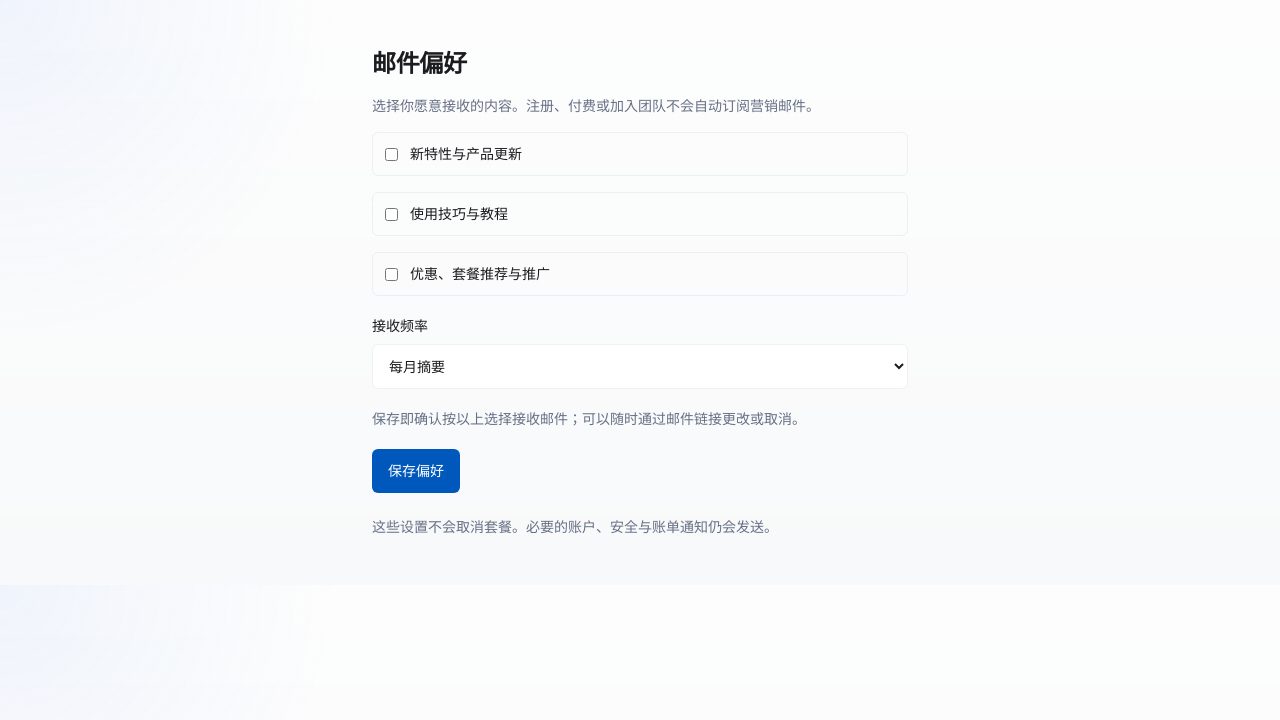
Test case: self-service email preferences › starts with unchecked categories and saves only explicit choices
Click the checkbox labelled "新特性与产品更新".
click(392, 154)  # box [385, 148, 398, 160]
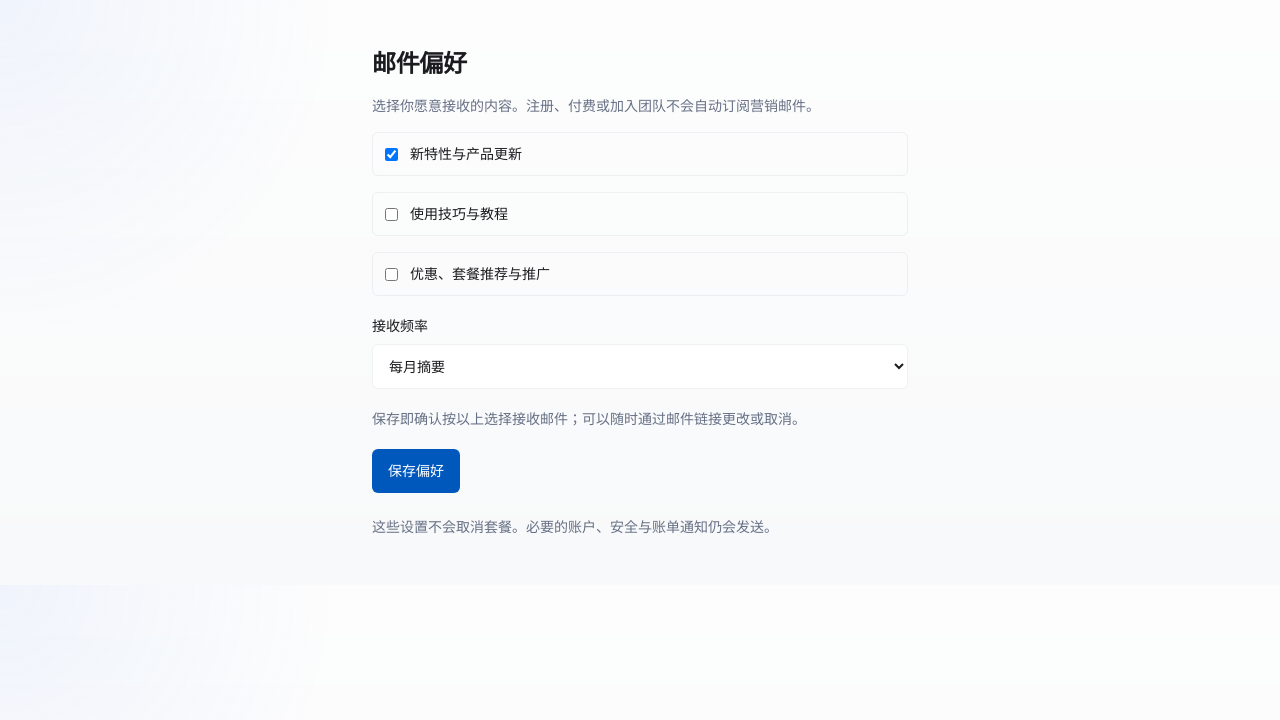
Click the button "保存偏好".
click(416, 471)  # box [372, 449, 460, 493]
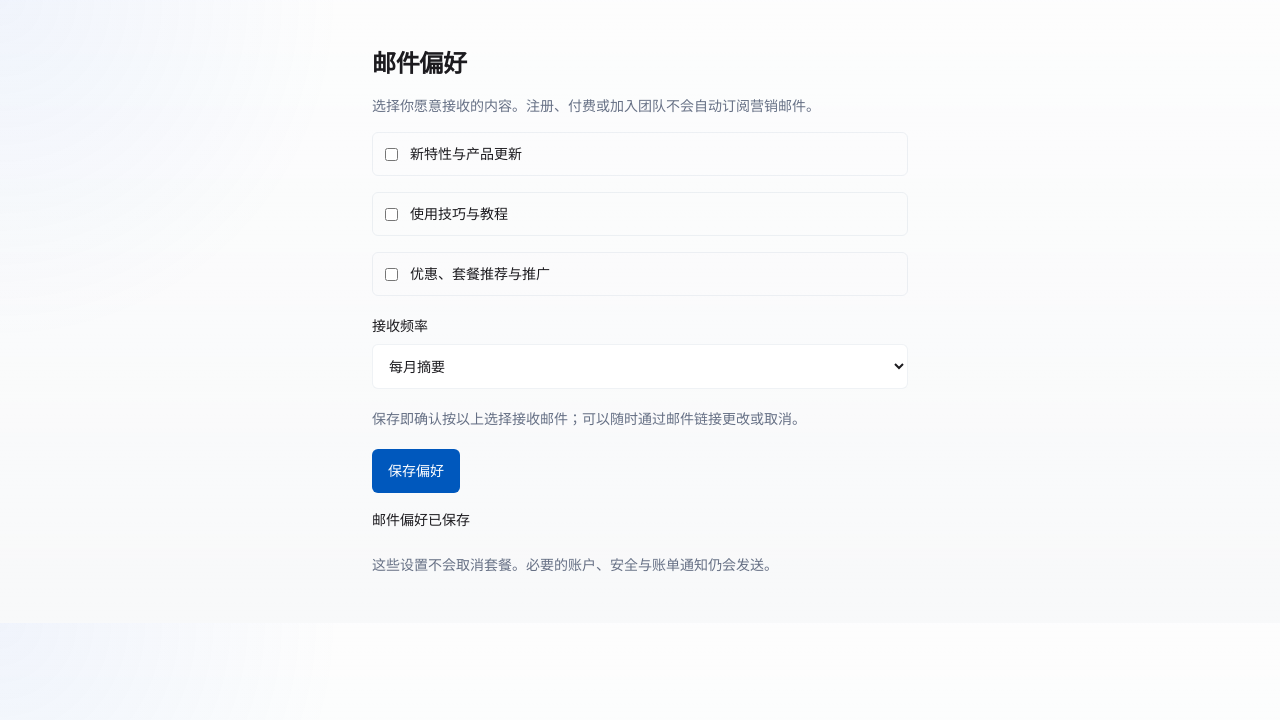
Now the message reads "邮件偏好已保存", box [372, 511, 470, 528]
